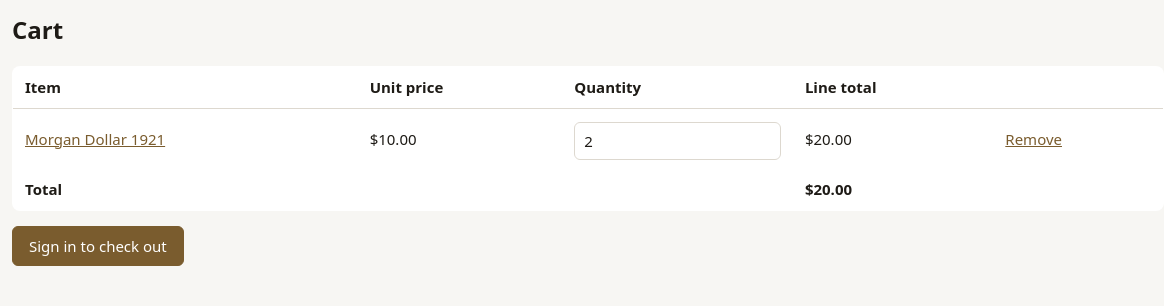
Scenario: Cart quantity › does not go on showing a number past the stock, and says what the stock is
Replace the text in the number field with "9" at (678, 141), box [574,122,781,160]
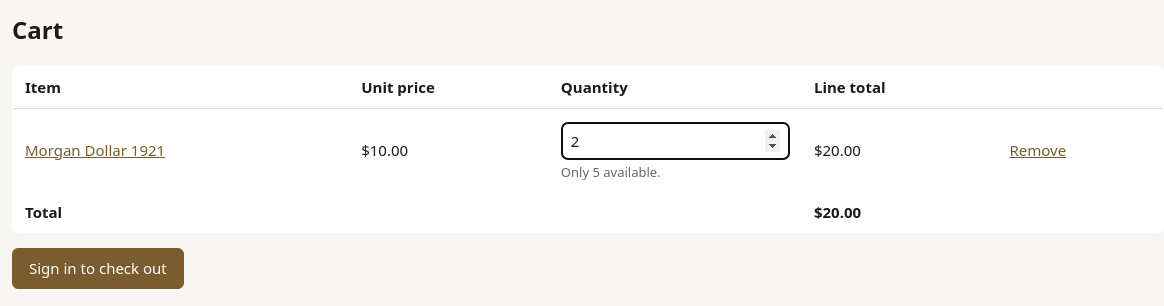
Now the number field does not hold "9", box [561,122,790,160]
Now the text "Only 5 available." is shown, box [561,163,661,181]
